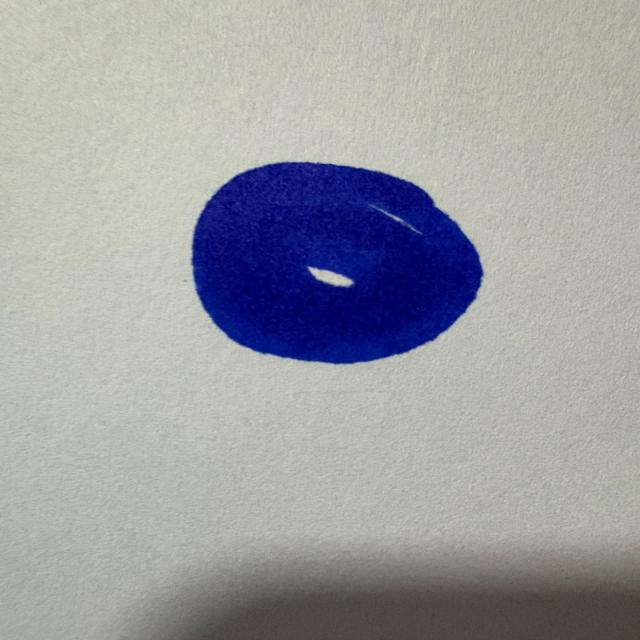Circle: (182, 155, 488, 372)
